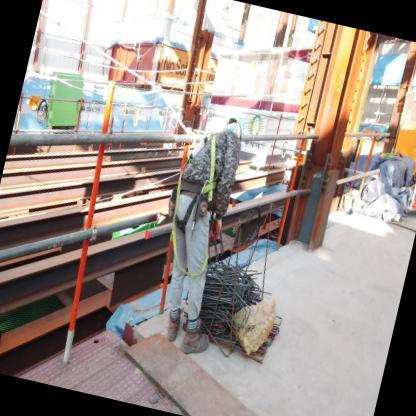safety-shoe: (178, 322, 214, 362), (160, 313, 184, 347)
